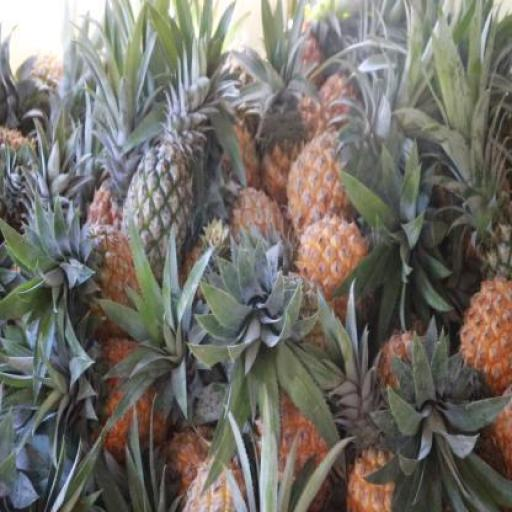Pineapple - v8 v1: (288, 136, 359, 238), (297, 218, 369, 306)
